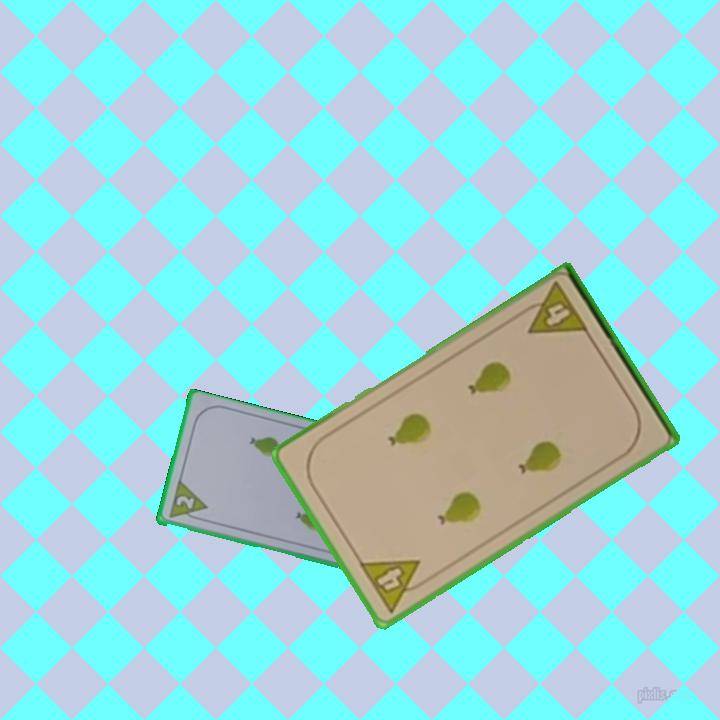2p: (172, 492, 197, 512)
4p: (355, 556, 434, 616), (515, 278, 591, 338)
